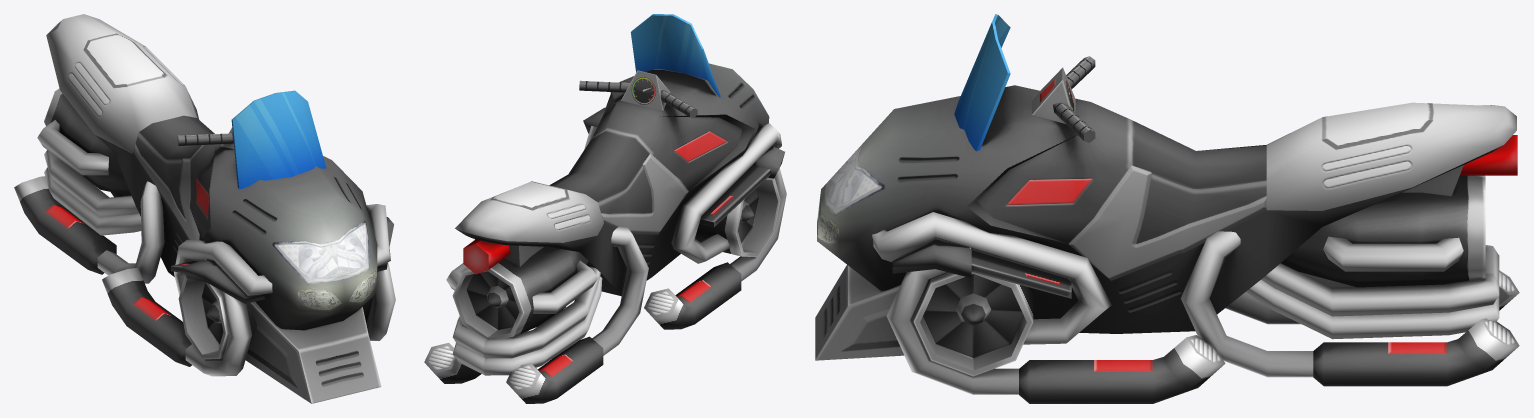
Rendered from Hover_Bike_Black.fbx.
3 renders of one model, left to right at view 1: azimuth 30°, elevation 25°; view 2: azimuth 150°, elevation 25°; view 3: azimuth 270°, elevation 25°, orthographic. The views are drawn at different scales.
Parts seen in each view (by area): view 1: Hoverbike_Black; view 2: Hoverbike_Black; view 3: Hoverbike_Black.
Boxes of the visible parts, x1,y1,x2,y2 form: Hoverbike_Black: (14,14,395,403); Hoverbike_Black: (424,14,786,403); Hoverbike_Black: (815,14,1519,403).
Bounding box in the file's own units: 10.71 × 13.25 × 25.04.
